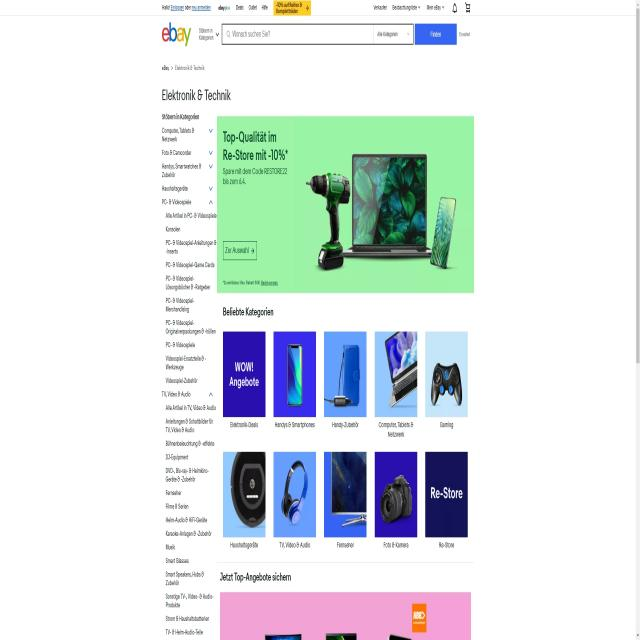search: (218, 21, 473, 47)
